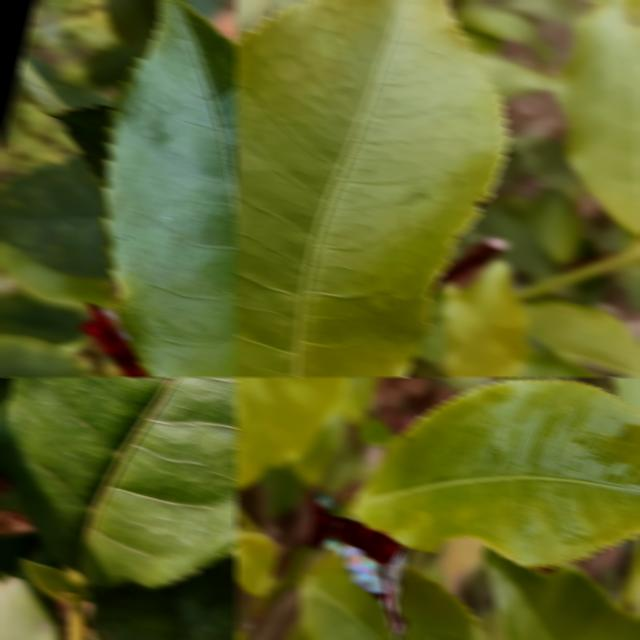Leaf: (234, 0, 506, 377), (348, 378, 640, 566), (102, 0, 238, 377), (0, 377, 238, 587), (557, 1, 640, 236), (298, 554, 483, 640), (484, 549, 640, 640), (0, 156, 111, 279), (234, 377, 349, 489), (89, 561, 238, 640), (439, 260, 528, 377), (522, 301, 640, 377), (0, 533, 60, 640), (528, 189, 582, 262), (0, 334, 89, 377), (20, 558, 92, 605), (234, 532, 278, 595), (512, 350, 599, 377)
